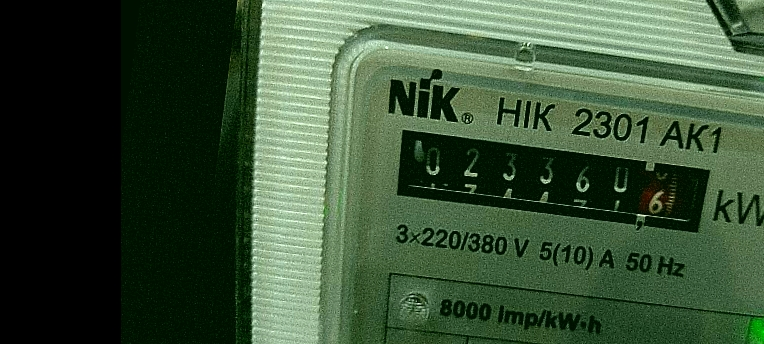0: (421, 141, 446, 177), (611, 161, 632, 194)
2: (459, 143, 486, 180)
3: (497, 148, 521, 182), (536, 152, 558, 185)
6: (571, 159, 595, 194), (644, 184, 668, 215)
screen: (374, 109, 726, 249)
